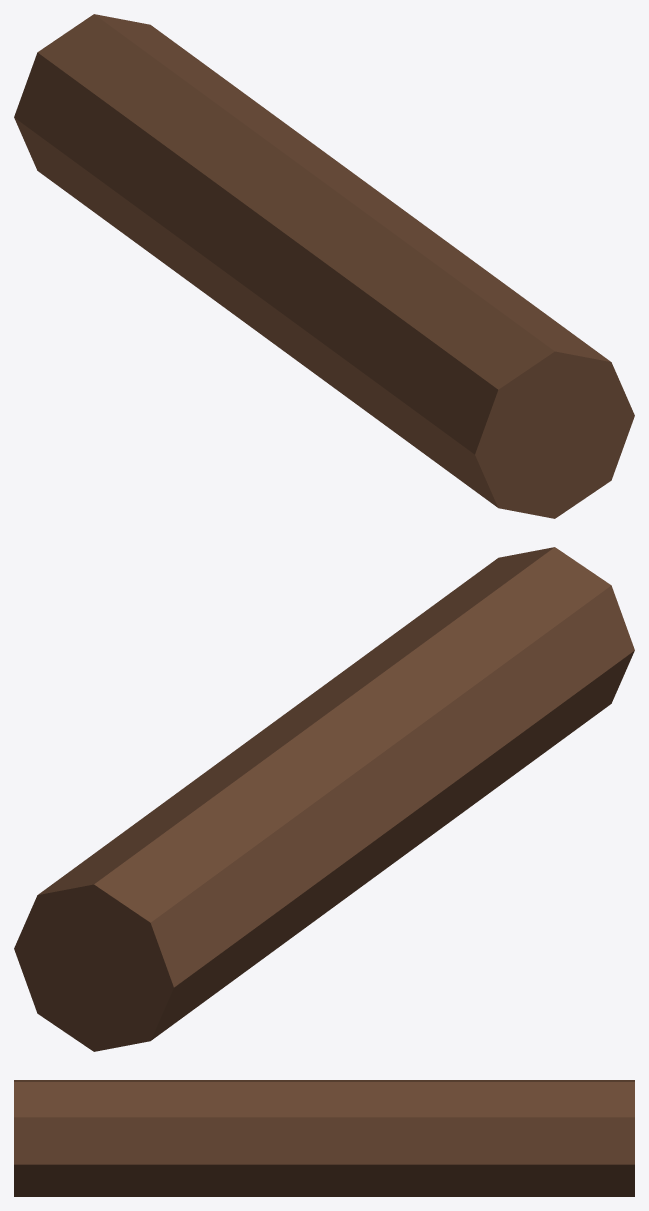
File: wip_dynamite.glb
The picture shows the model from 3 angles, top to bottom: view 1: azimuth 30°, elevation 25°; view 2: azimuth 150°, elevation 25°; view 3: azimuth 270°, elevation 25°; orthographic projection. The views are drawn at different scales.
Visible parts, largest first — view 1: product-7d36ec31-4544-4ad0-9212-a30d916c9108-body; view 2: product-7d36ec31-4544-4ad0-9212-a30d916c9108-body; view 3: product-7d36ec31-4544-4ad0-9212-a30d916c9108-body.
Boxes of the visible parts, x1,y1,x2,y2 form: product-7d36ec31-4544-4ad0-9212-a30d916c9108-body: (14,14,634,518); product-7d36ec31-4544-4ad0-9212-a30d916c9108-body: (14,547,634,1051); product-7d36ec31-4544-4ad0-9212-a30d916c9108-body: (14,1080,634,1196).
Bounding box in the file's own units: 0.0262 × 0.0262 × 0.1309.
